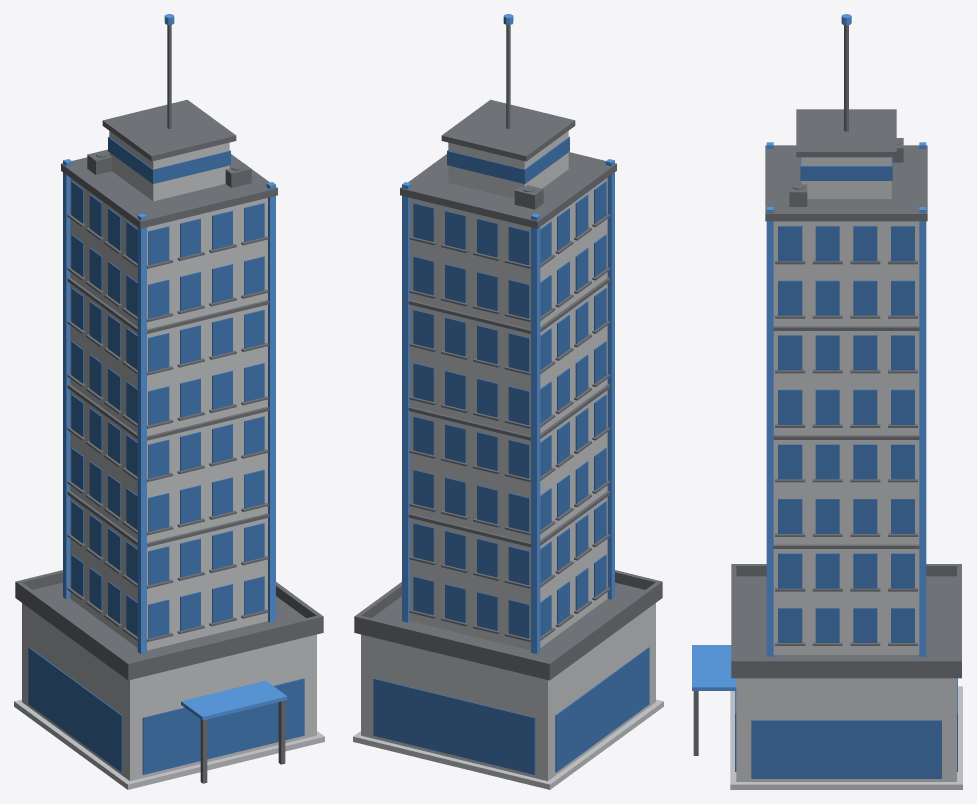
File: Building_Tall_02.fbx
The picture shows the model from 3 angles, left to right: view 1: azimuth 30°, elevation 25°; view 2: azimuth 150°, elevation 25°; view 3: azimuth 270°, elevation 25°; orthographic projection. The views are drawn at different scales.
Visible parts, largest first — view 1: Building_Tall_02_Structure, Building_Tall_02_Windows, Building_Tall_02_Trim, Building_Tall_02_Accent; view 2: Building_Tall_02_Structure, Building_Tall_02_Windows, Building_Tall_02_Trim, Building_Tall_02_Accent; view 3: Building_Tall_02_Structure, Building_Tall_02_Windows, Building_Tall_02_Trim, Building_Tall_02_Accent.
Boxes of the visible parts, x1,y1,x2,y2 form: Building_Tall_02_Structure: (14,131,324,789); Building_Tall_02_Windows: (28,137,304,774); Building_Tall_02_Trim: (15,25,323,783); Building_Tall_02_Accent: (63,14,287,720); Building_Tall_02_Structure: (353,131,663,789); Building_Tall_02_Windows: (373,137,649,774); Building_Tall_02_Trim: (354,25,662,680); Building_Tall_02_Accent: (402,14,614,653); Building_Tall_02_Structure: (730,157,962,789); Building_Tall_02_Windows: (735,157,957,778); Building_Tall_02_Trim: (693,25,961,755); Building_Tall_02_Accent: (692,14,926,690).
Size of the model in its own units: 11.6 by 39.85 by 13.5.
